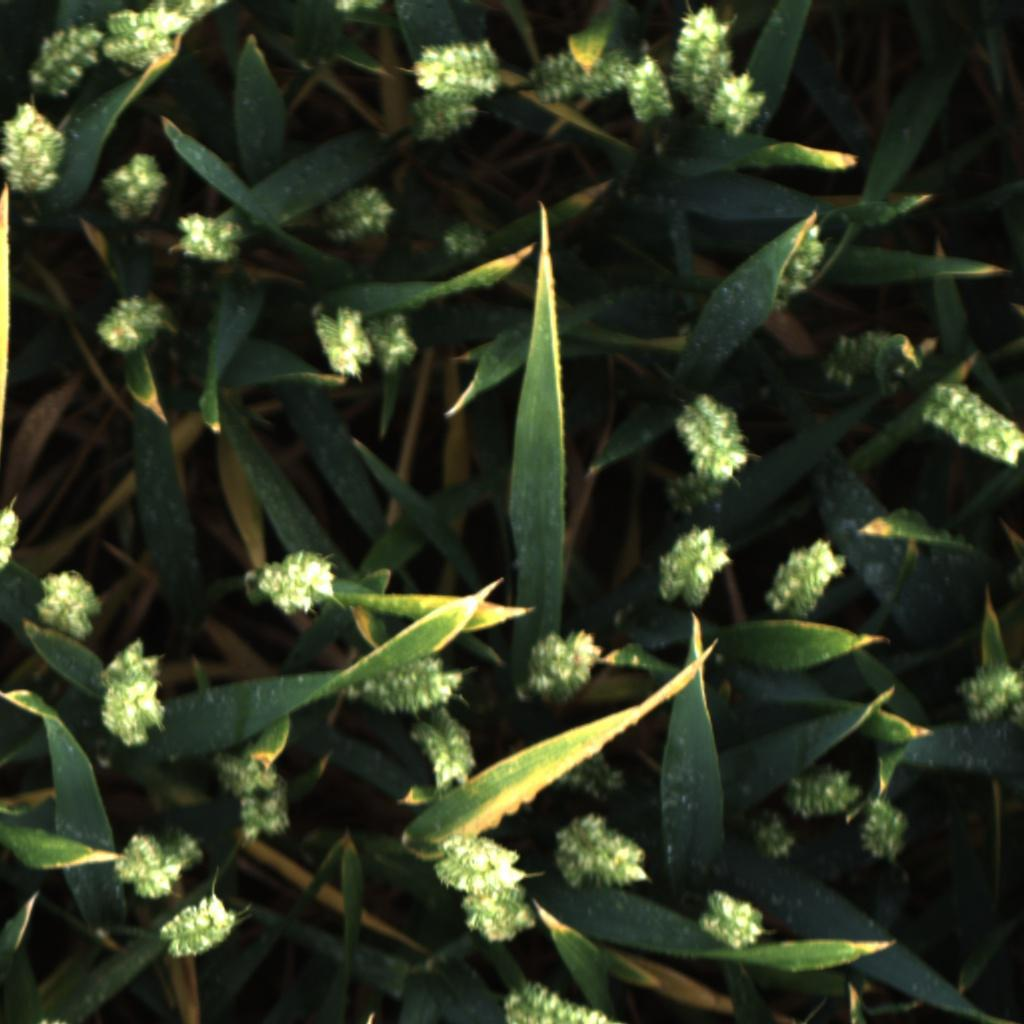0-0: (923, 378, 1024, 471), (556, 813, 655, 894), (516, 622, 608, 707), (651, 520, 736, 612), (766, 533, 854, 621), (671, 394, 755, 484), (21, 19, 107, 102), (254, 541, 343, 619), (521, 45, 633, 106), (357, 655, 463, 719), (430, 825, 530, 890), (0, 100, 67, 197), (411, 28, 505, 96), (100, 9, 193, 75), (675, 5, 739, 99), (495, 978, 622, 1024), (158, 896, 246, 962), (114, 822, 184, 904), (97, 678, 169, 757), (32, 567, 107, 642), (101, 147, 171, 226), (314, 181, 399, 246), (461, 882, 539, 952), (396, 87, 488, 146), (91, 287, 167, 357), (417, 710, 479, 795), (698, 882, 768, 955), (551, 743, 628, 806), (620, 45, 677, 130), (232, 768, 296, 841), (427, 212, 498, 277), (703, 70, 771, 137), (787, 761, 861, 822), (957, 665, 1024, 732), (315, 306, 370, 385), (169, 211, 245, 266), (773, 230, 827, 307), (96, 632, 165, 690), (858, 799, 913, 866), (208, 749, 279, 797), (369, 311, 420, 376), (747, 805, 799, 865), (665, 470, 726, 516), (821, 331, 865, 388), (0, 493, 25, 577), (163, 831, 210, 875), (858, 328, 899, 378), (142, 0, 229, 22), (328, 0, 387, 13)
